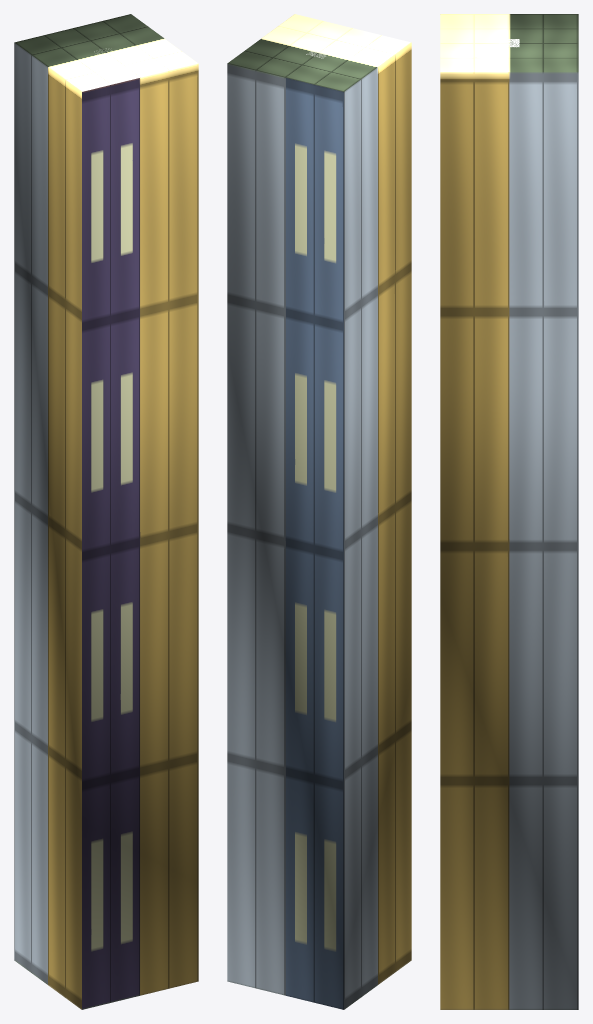
File: street_lamp.glb
The picture shows the model from 3 angles, left to right: view 1: azimuth 30°, elevation 25°; view 2: azimuth 150°, elevation 25°; view 3: azimuth 270°, elevation 25°; orthographic projection. The views are drawn at different scales.
Visible parts, largest first — view 1: col; view 2: col; view 3: col.
Part boxes in pixels (bbox=[...]): col: bbox=[14, 14, 198, 1009]; col: bbox=[227, 14, 411, 1009]; col: bbox=[440, 14, 578, 1009].
Bounding box in the file's own units: 0.5734 × 4.3 × 0.575.
Materials: 1 (1 with a texture image).
